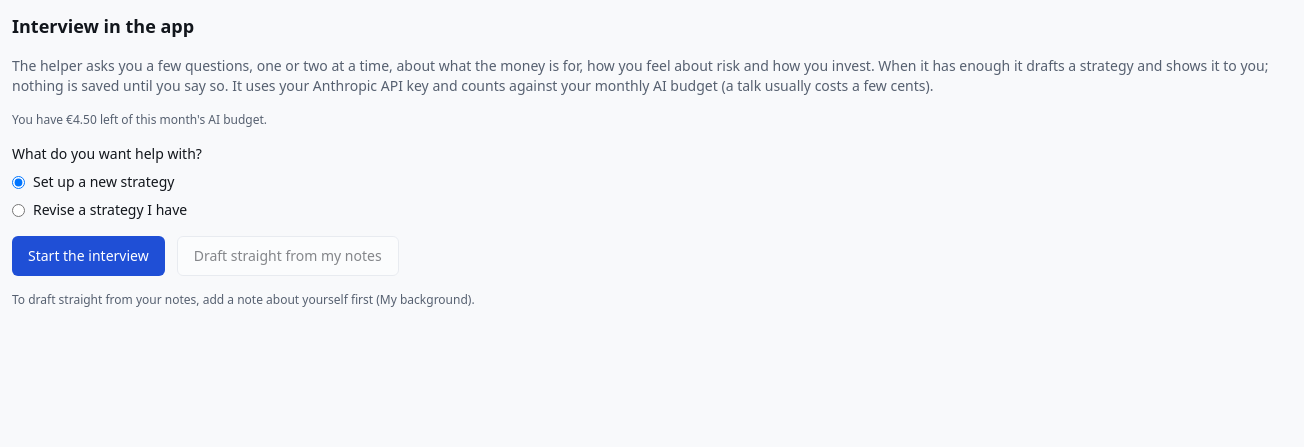
Test: the strategy interview in the app (ADR 0048) › starts, shows the question with suggested answers, and sends a picked answer
What coordinates should you click on to do the following:
click the button "Start the interview"
I would click on:
 (88, 256)
Its box is [12,236,165,276].
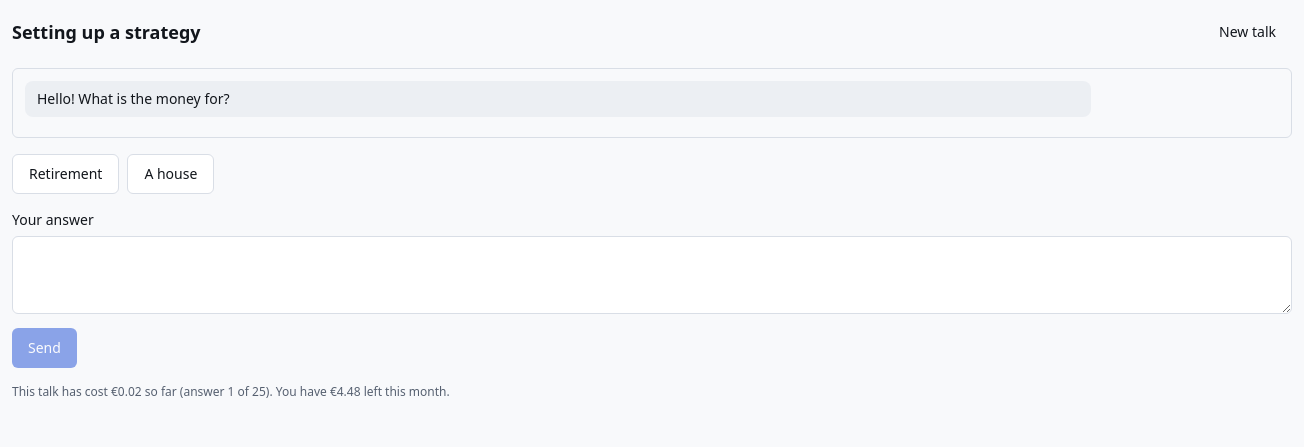
Expected: the list reads "Hello! What is the money for?", [37,89,230,108]
What coordinates should you click on to do the following:
click the button "Retirement"
I would click on:
 (66, 174)
Its box is [12,154,119,194].
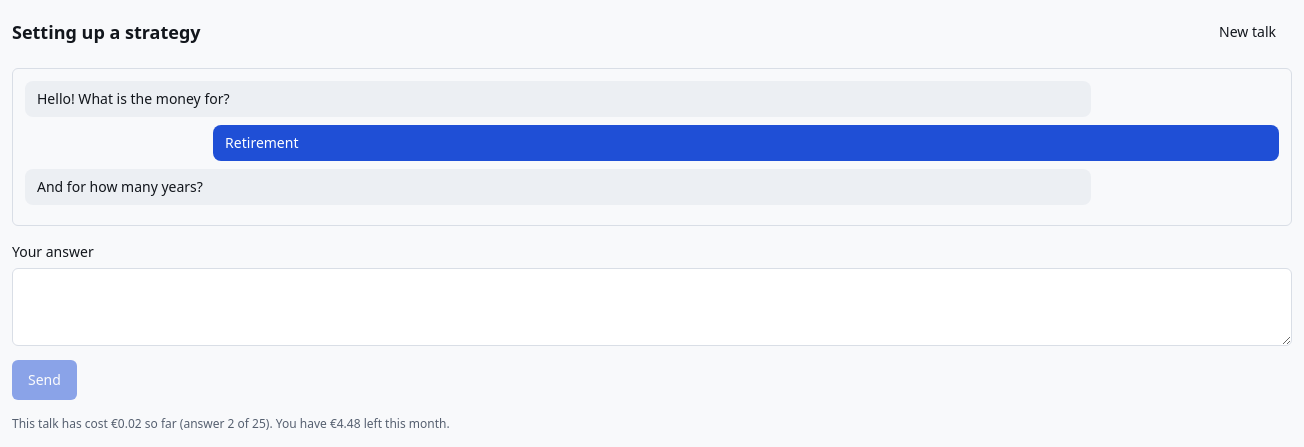
Expected: the list item "And for how many years?" is shown, [25,169,1091,205]
Expected: the button "A house" is gone
